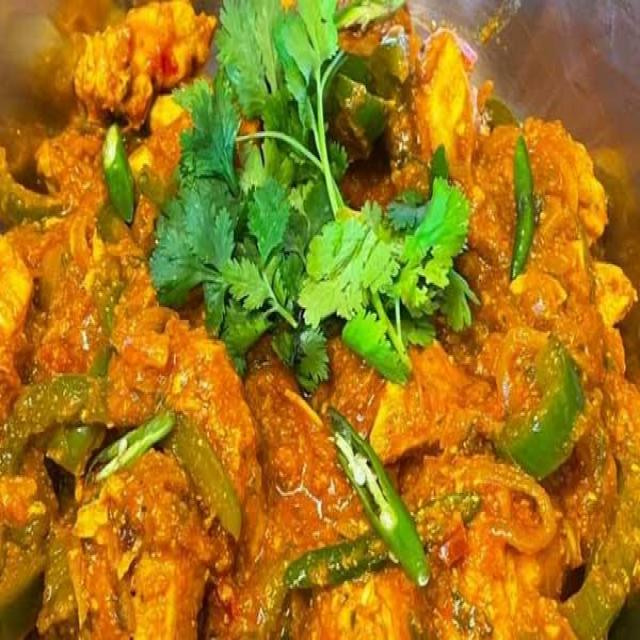chicken: (19, 35, 627, 620)
